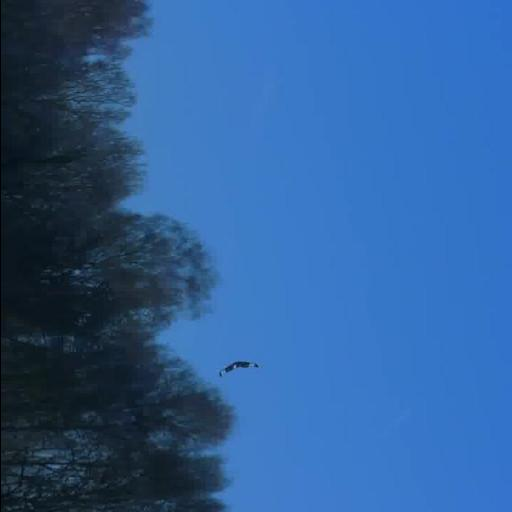uav: (210, 360, 264, 382)
